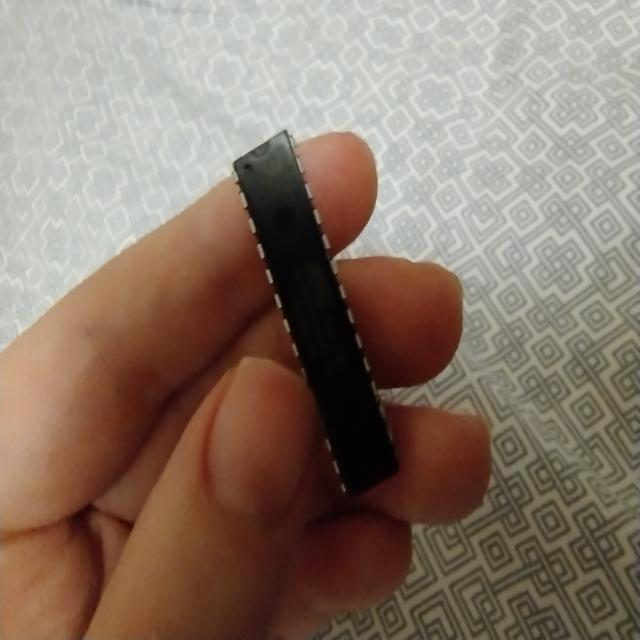atmega: (229, 126, 402, 502)
